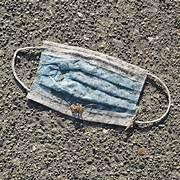Mask: (12, 41, 170, 126)
